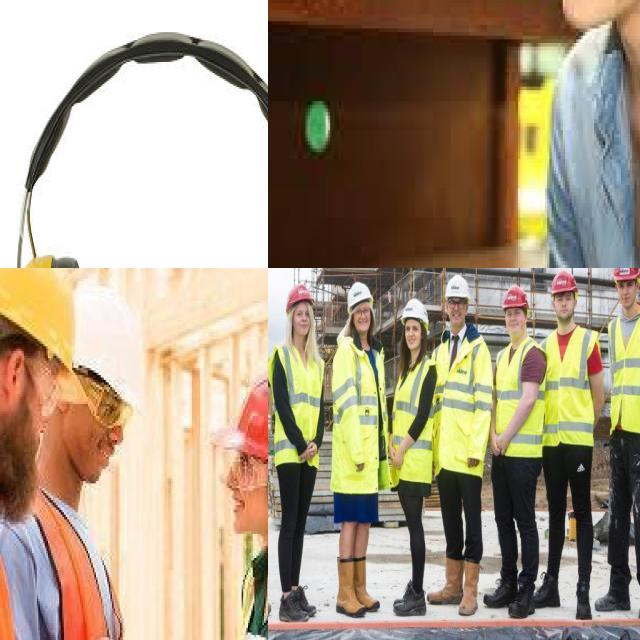Ear-protection: (0, 6, 268, 268)
boots: (424, 553, 465, 607), (334, 549, 365, 619), (353, 554, 383, 614), (458, 560, 482, 618)
face_nomask: (0, 319, 56, 519), (66, 368, 136, 488), (220, 444, 268, 553), (350, 303, 378, 333), (618, 279, 638, 317), (290, 306, 312, 340), (555, 292, 577, 324), (448, 298, 470, 330), (504, 311, 528, 338), (404, 317, 424, 349)
glasses: (212, 435, 265, 493), (88, 380, 131, 430), (446, 298, 468, 312), (352, 305, 371, 321)
hand_noglove: (388, 434, 410, 475), (488, 431, 514, 462), (300, 439, 319, 463)
head_helmet: (67, 286, 149, 411), (0, 269, 76, 375), (225, 348, 268, 483), (402, 298, 429, 326), (346, 281, 374, 307), (286, 283, 315, 308), (550, 270, 576, 296), (444, 273, 468, 301), (503, 285, 528, 308), (613, 268, 640, 281)
person: (12, 290, 155, 640), (193, 339, 268, 640), (541, 269, 603, 623), (331, 281, 388, 617), (270, 284, 325, 620), (436, 276, 490, 614), (494, 286, 544, 617), (392, 296, 434, 617), (605, 268, 640, 619)
shoes: (480, 570, 521, 612), (504, 572, 537, 622), (529, 566, 563, 610), (390, 582, 428, 618), (591, 583, 634, 613), (277, 588, 312, 624), (572, 578, 594, 622), (634, 581, 640, 623)
vest: (29, 483, 136, 640), (540, 321, 599, 452), (272, 347, 330, 477), (431, 331, 493, 433), (330, 338, 387, 447), (496, 337, 546, 461), (393, 352, 433, 488), (606, 301, 640, 438)
